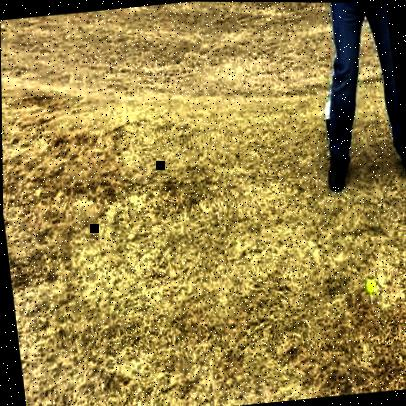ClubHead: (364, 276, 376, 294)
